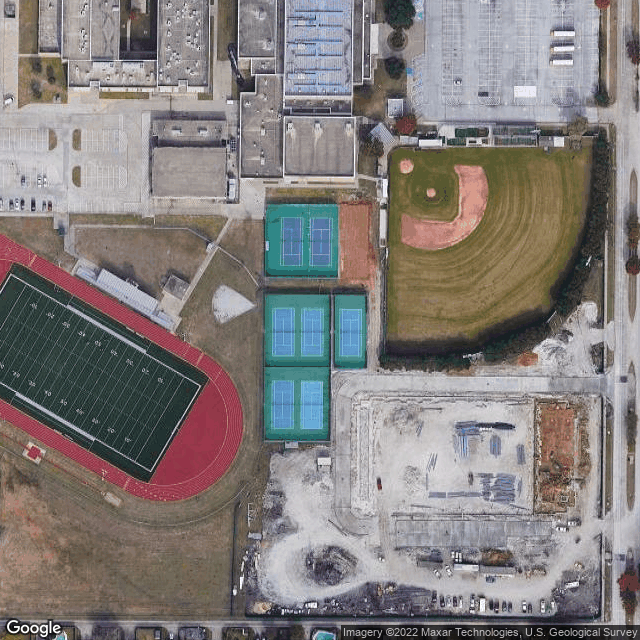Court: (269, 306, 295, 357), (308, 216, 333, 267), (270, 378, 295, 429), (280, 216, 305, 266), (299, 380, 324, 430), (300, 308, 325, 357), (339, 308, 362, 358)
